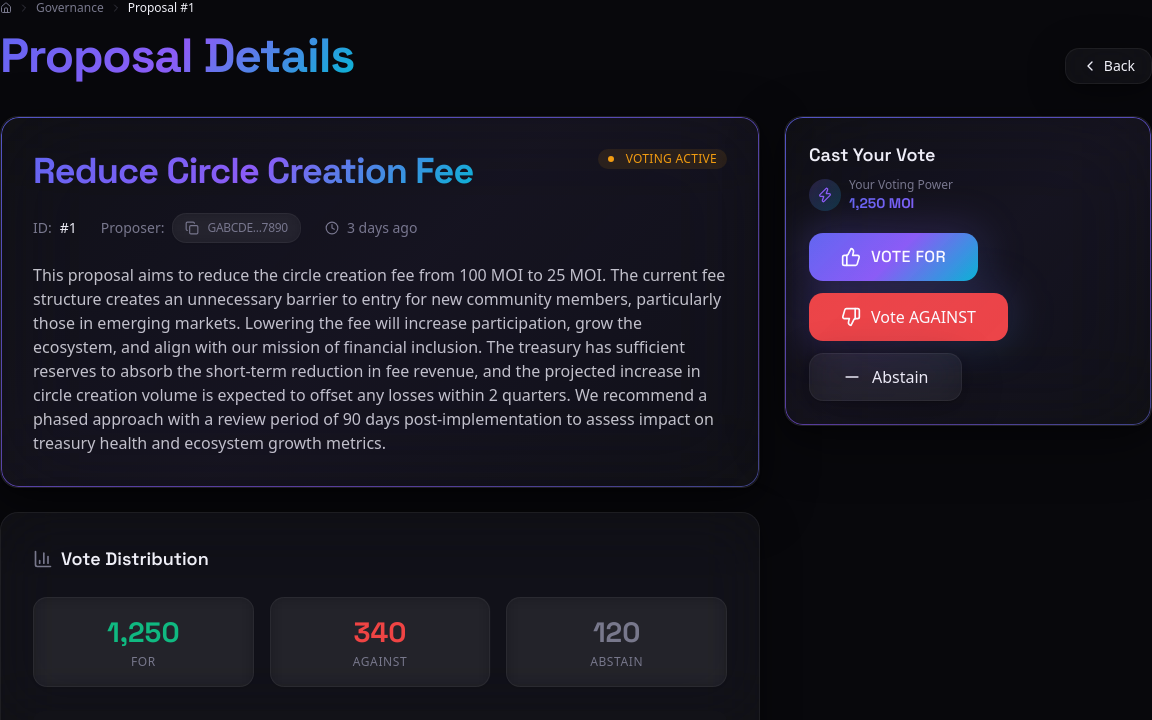
Voting Panel Interactions › after confirming vote, shows 'You voted' state
What coordinates should you click on to do the following:
click the button "Vote FOR"
I would click on:
 (894, 257)
Its box is x1=809 y1=233 x2=978 y2=281.
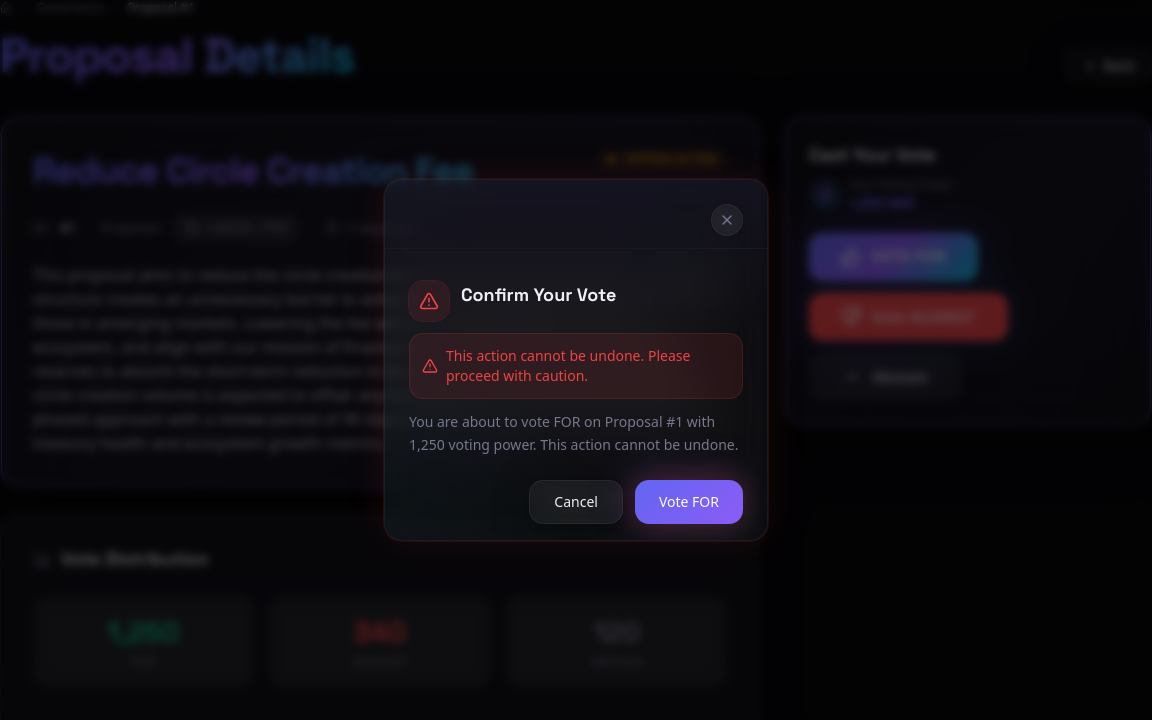
expect the heading "Confirm Your Vote" is shown: met, box x1=461 y1=281 x2=616 y2=309
What coordinates should you click on to do the following:
click the button "Vote FOR"
I would click on:
 (689, 502)
Its box is x1=635 y1=480 x2=743 y2=524.
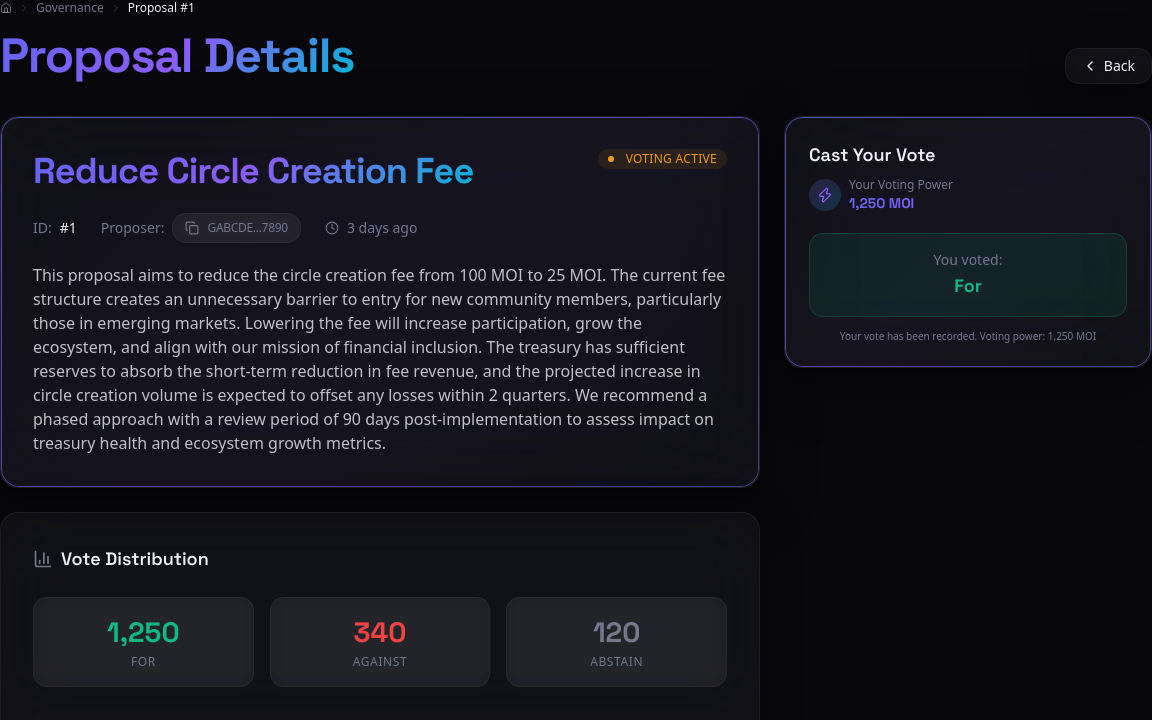
expect the text "You voted:" is shown: met, box x1=934 y1=250 x2=1002 y2=269
